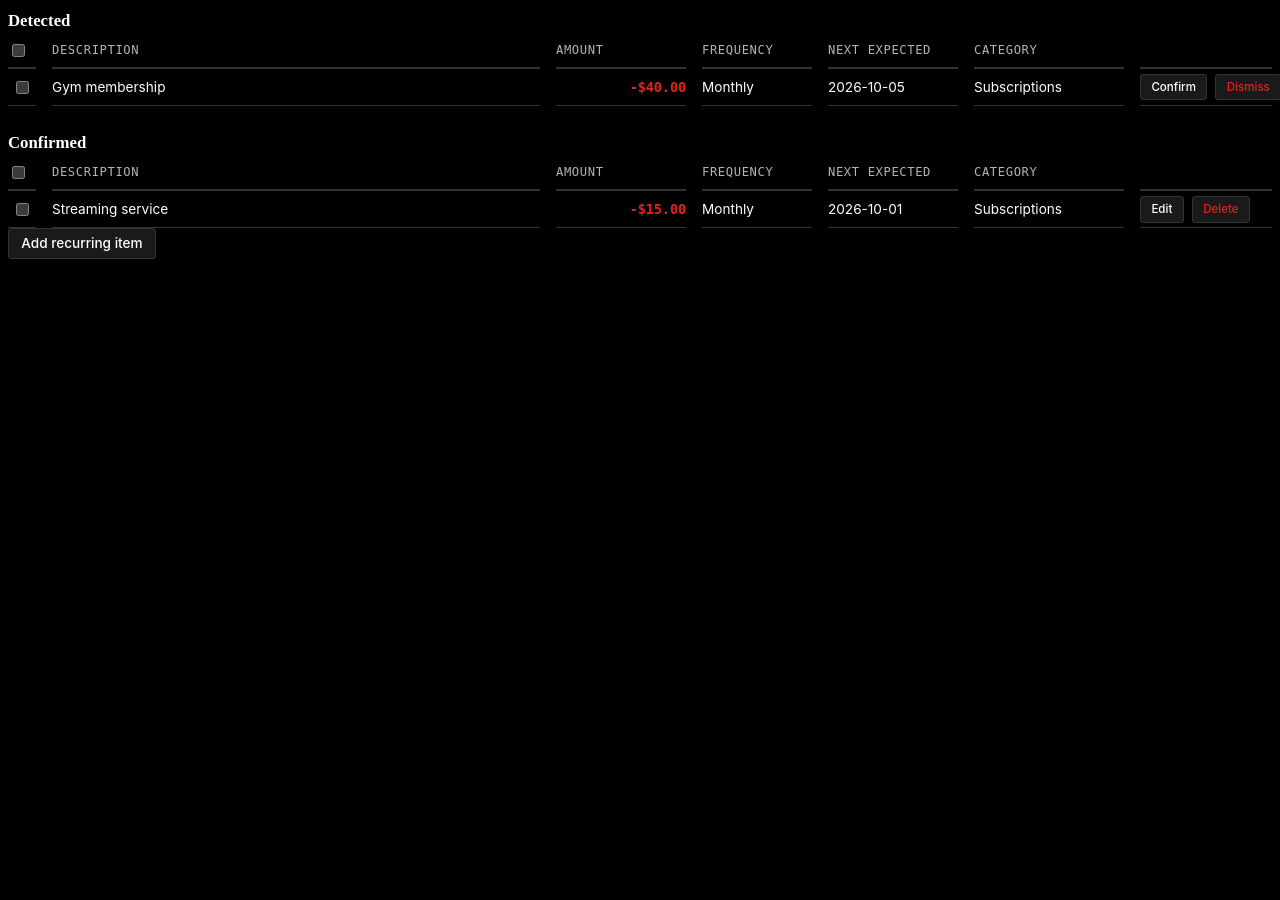
Test: RecurringItemsScreen delete confirmation › clicking Dismiss on a detected item shows dismiss-specific copy, not the delete label
This screenshot has width=1280, height=900.
Expected: the text "Gym membership" is shown, [52, 69, 540, 106]
Click the button "Dismiss" at (1248, 87), box [1215, 74, 1279, 100]
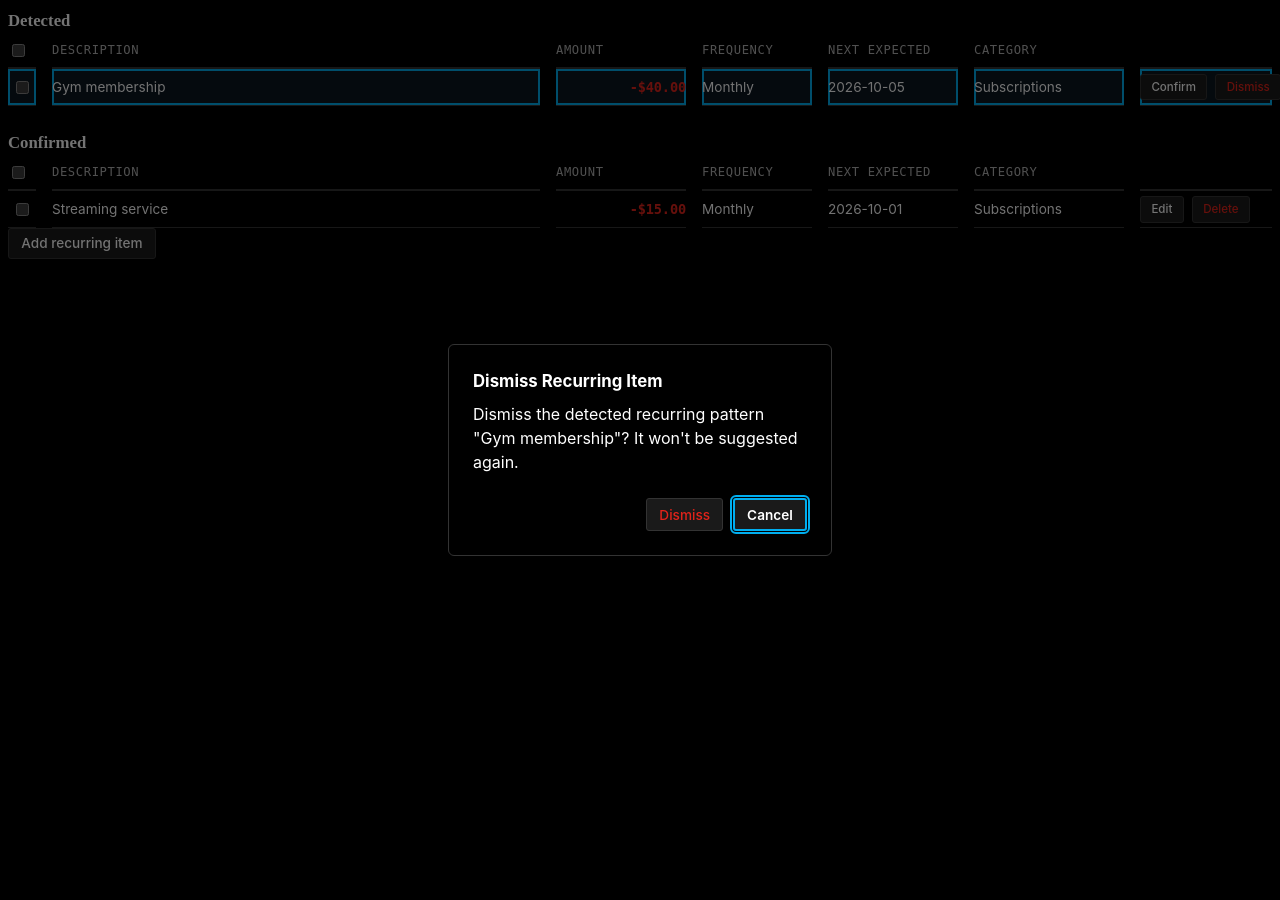
Now the heading "Dismiss Recurring Item" is shown, box [473, 371, 662, 391]
Now the button "Dismiss" is shown, box [646, 498, 723, 531]
